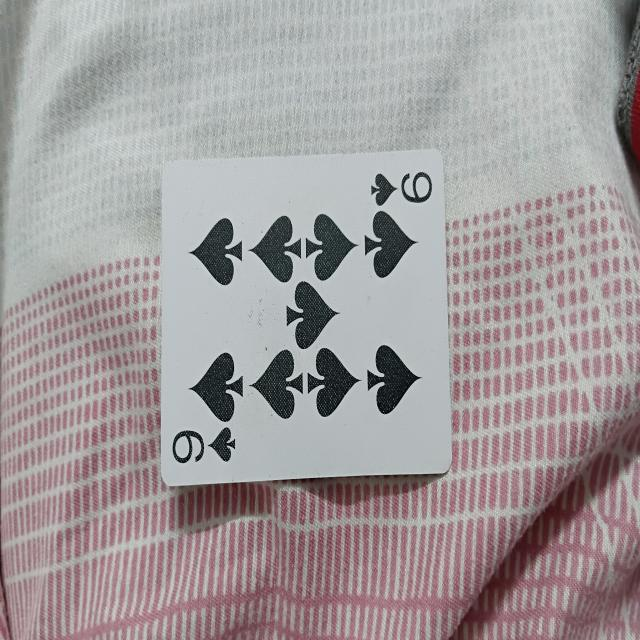9S: (158, 151, 456, 478)
